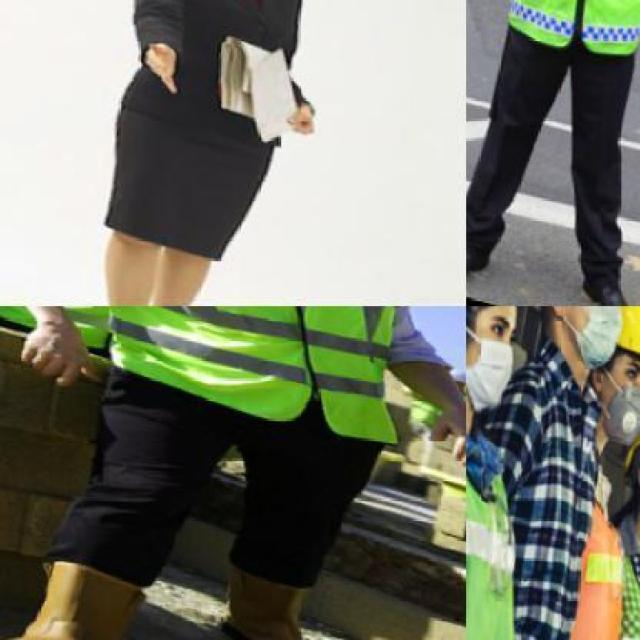Vest: (38, 306, 454, 457), (466, 383, 565, 639), (518, 472, 638, 638), (475, 0, 638, 78), (564, 506, 638, 639)
